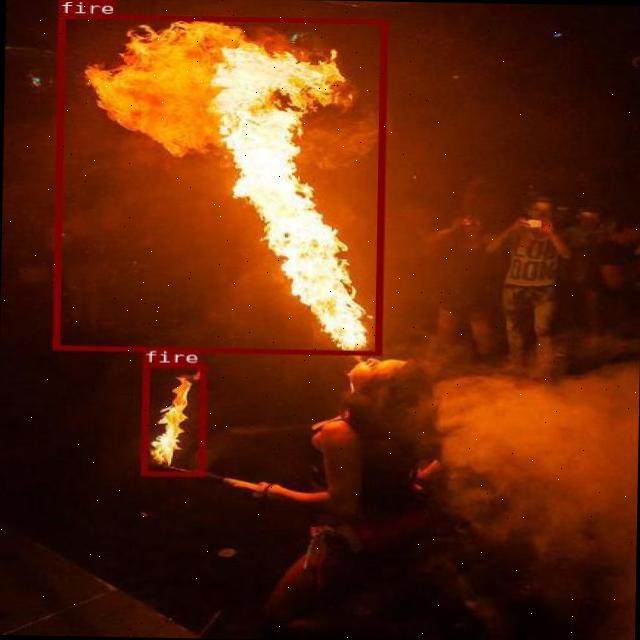fire: (51, 13, 386, 354), (140, 362, 206, 475)
